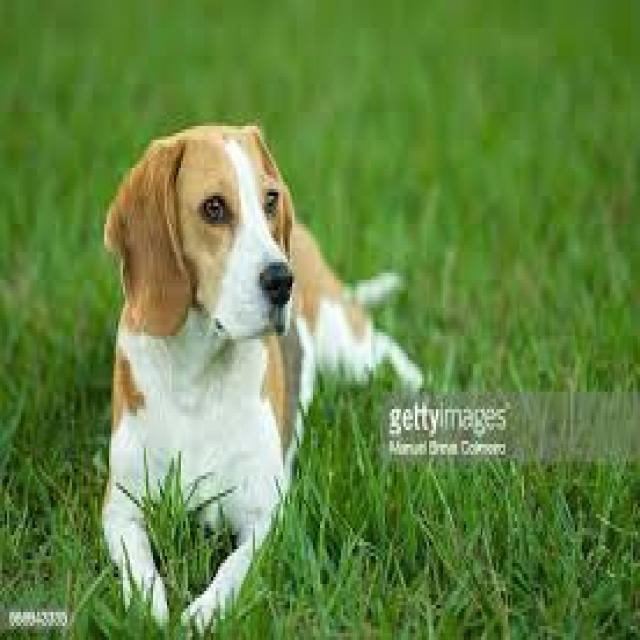Dog: (96, 108, 429, 636)
